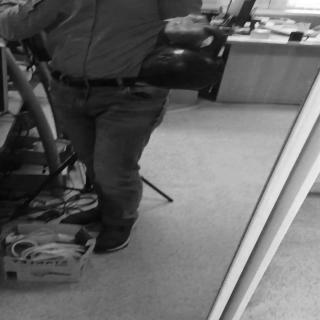kettlebell: (140, 22, 227, 92)
